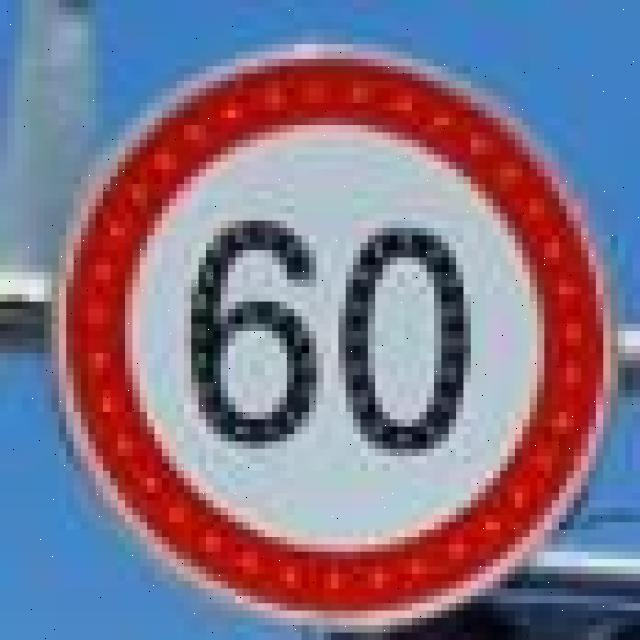speed limit 60: (55, 43, 613, 628)
